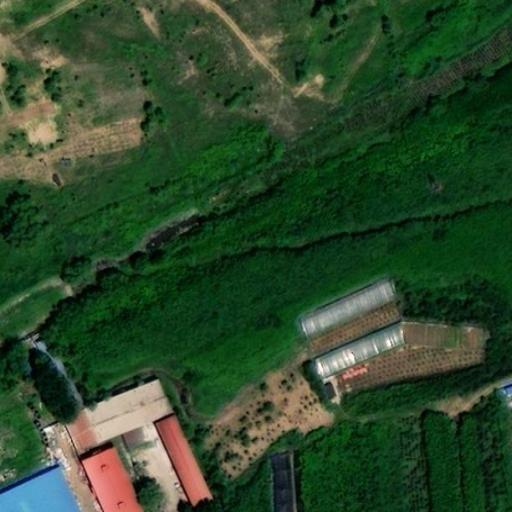building: (64, 391, 172, 466), (293, 272, 397, 339), (310, 317, 408, 380), (29, 331, 85, 414), (159, 432, 212, 512), (84, 462, 136, 512), (268, 449, 298, 512), (317, 377, 337, 400), (494, 381, 512, 402)
